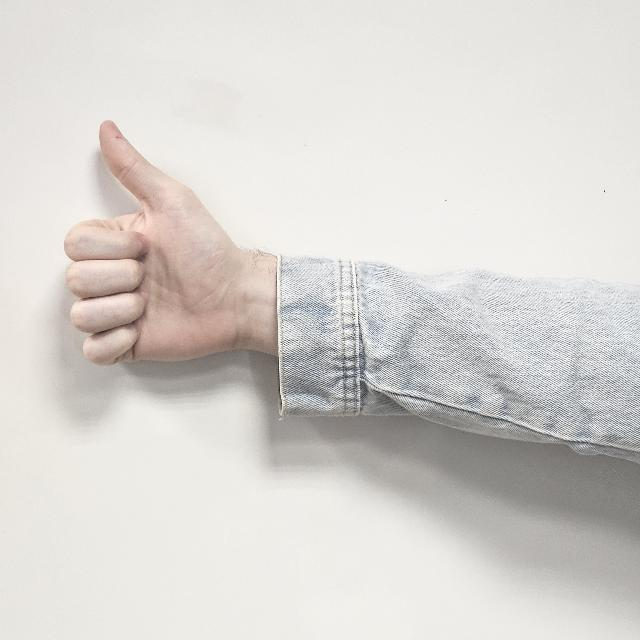Start: (68, 115, 250, 405)
